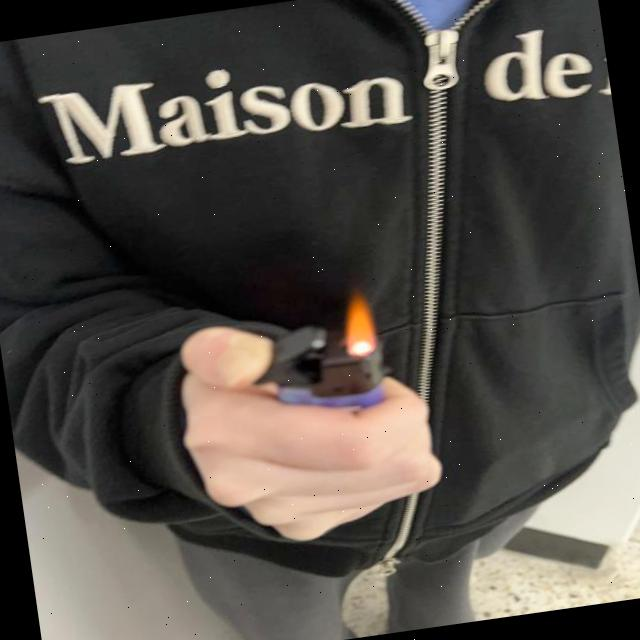fire: (338, 287, 380, 358)
